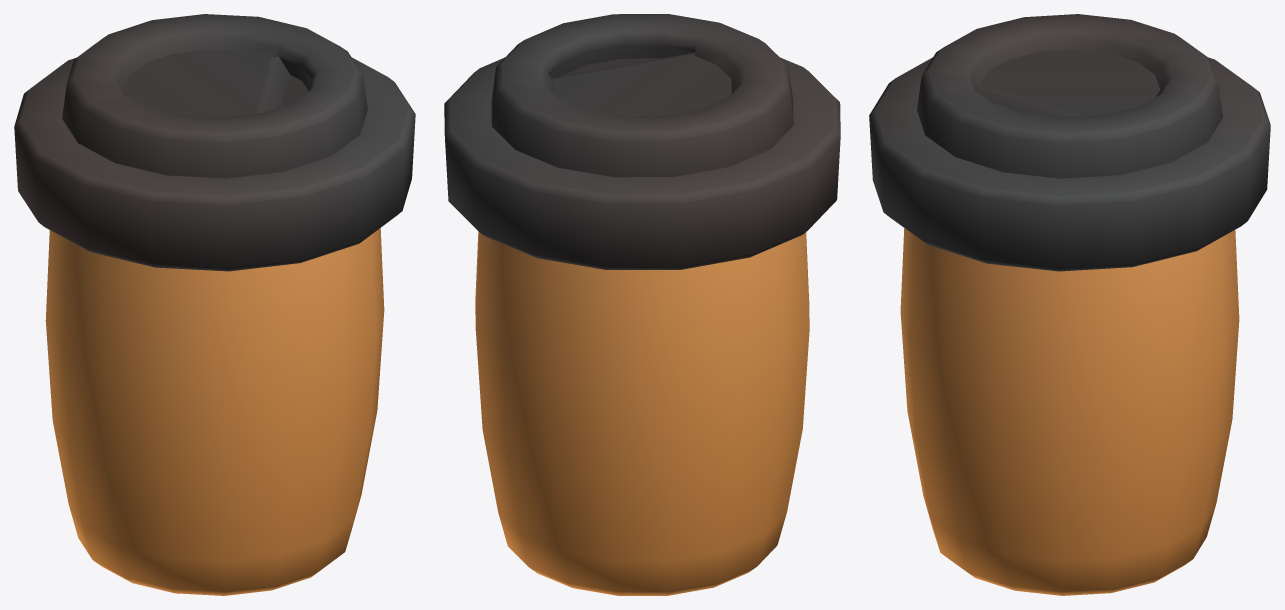
The model's file is coffee_005.fbx.
3 views of the same model, side by side, from view 1: azimuth 30°, elevation 25°; view 2: azimuth 150°, elevation 25°; view 3: azimuth 270°, elevation 25° (orthographic).
Parts seen in each view (by area): view 1: coffee_005; view 2: coffee_005; view 3: coffee_005.
Part boxes in pixels (x1,y1,x2,y2): coffee_005: [14, 14, 415, 595]; coffee_005: [444, 14, 840, 595]; coffee_005: [869, 14, 1270, 595].
Size of the model in its own units: 11.61 by 11.61 by 14.97.
